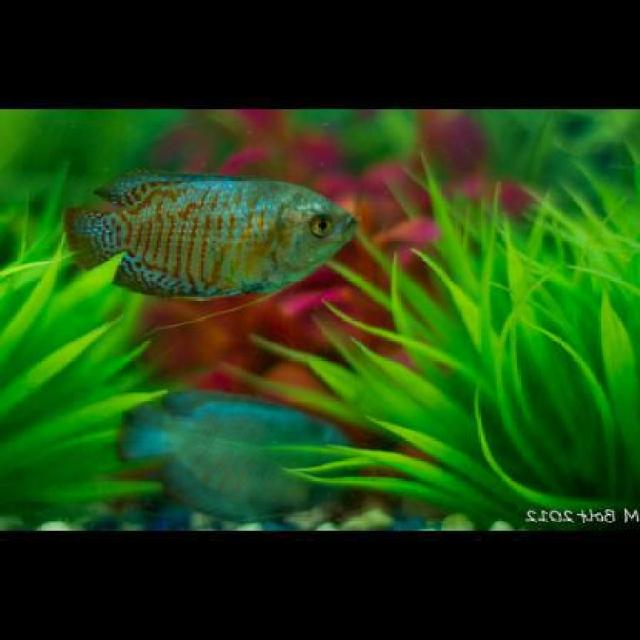Gourami: (66, 173, 357, 304)
